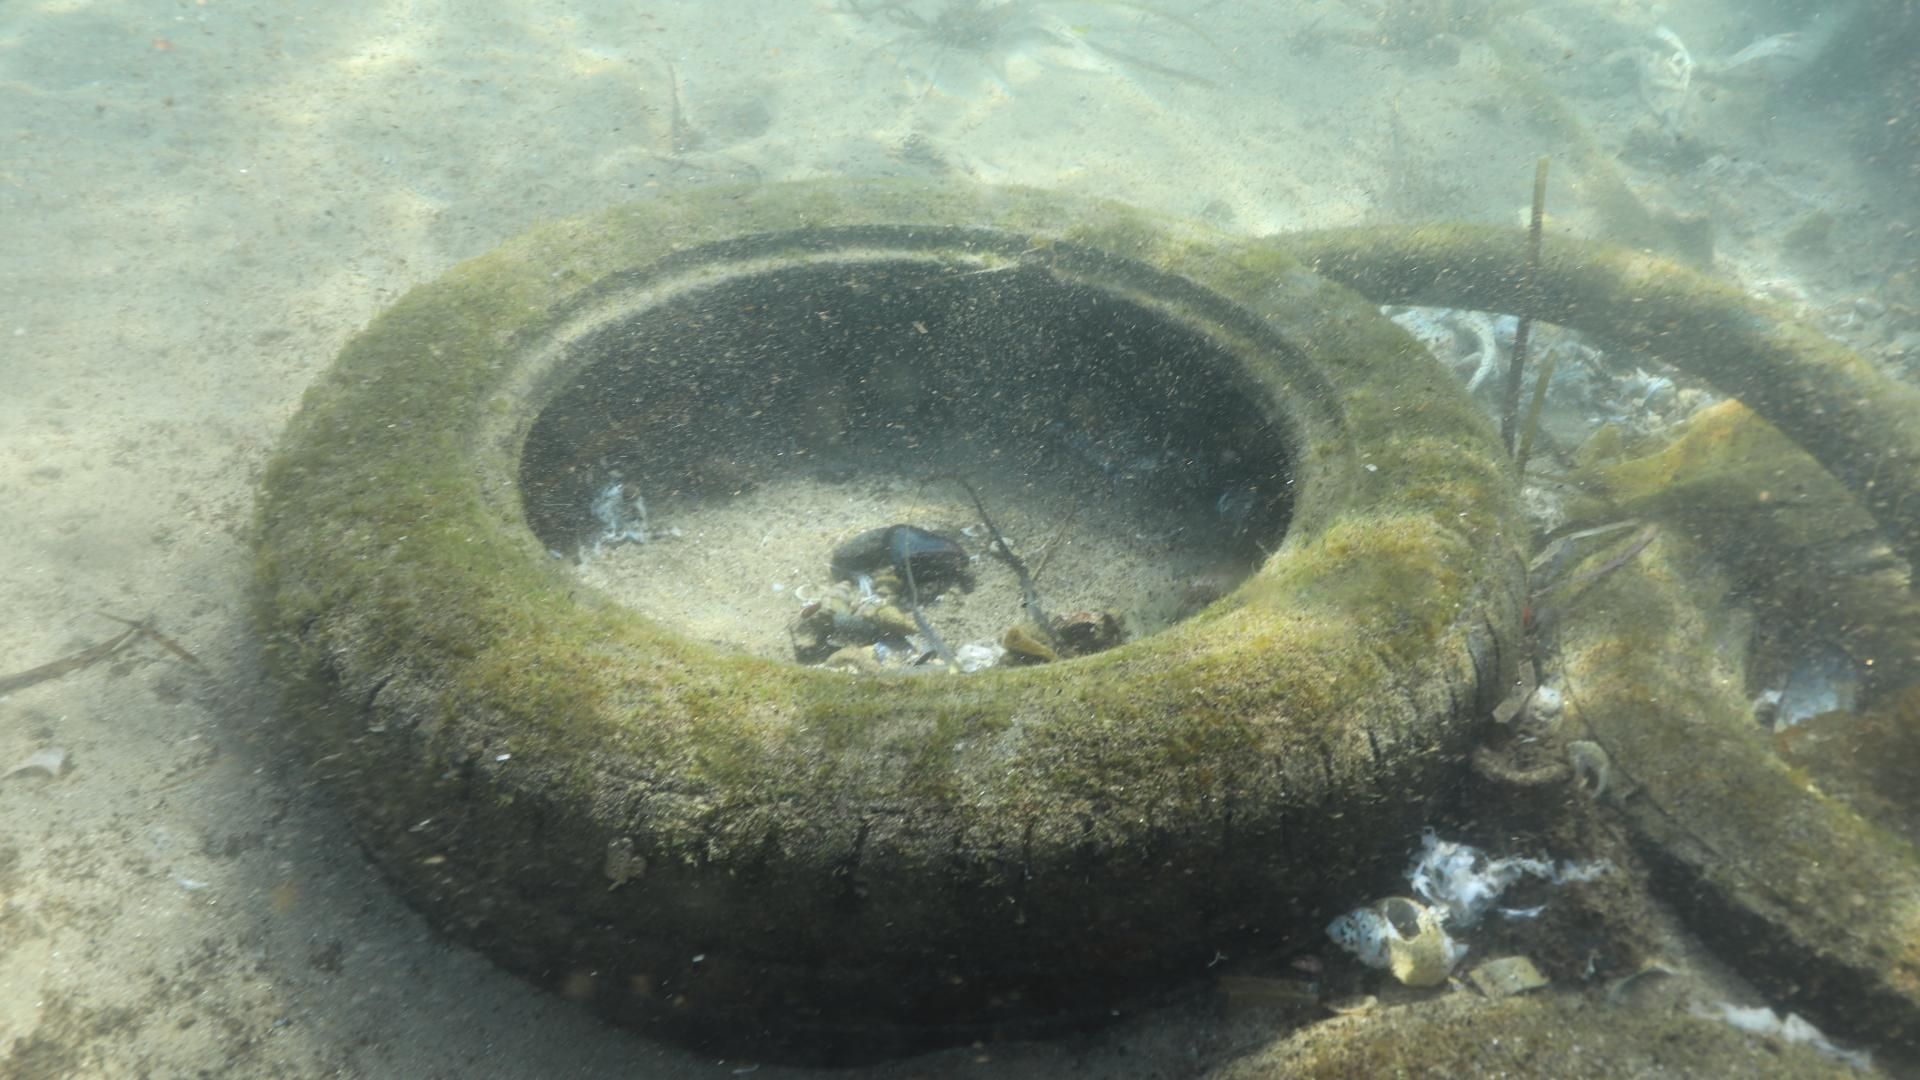tire: (257, 171, 1532, 1063)
